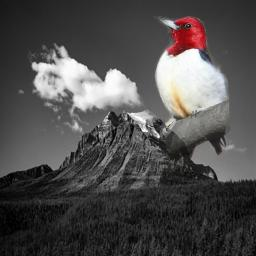Woodpecker: (151, 16, 232, 178)
